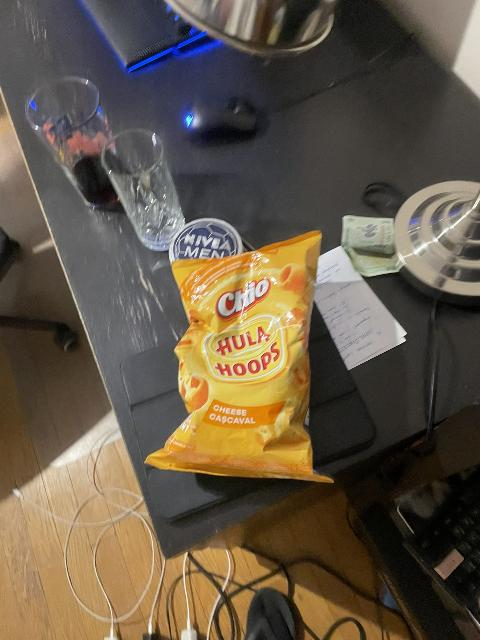Chio Hula Hoops Cheese 70g: (141, 229, 337, 489)
